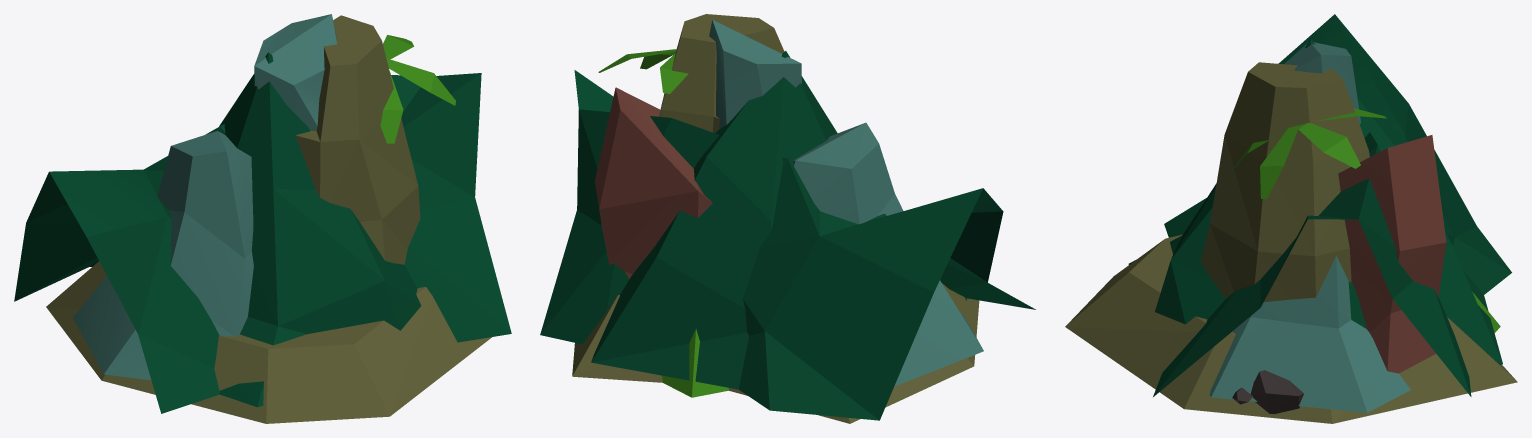
File: All.FBX
The picture shows the model from 3 angles, left to right: view 1: azimuth 30°, elevation 25°; view 2: azimuth 150°, elevation 25°; view 3: azimuth 270°, elevation 25°; orthographic projection. The views are drawn at different scales.
Parts seen in each view (by area): view 1: mtBig_connectA, mtBig_mountainA, seaBig_islandB, coldBig_icebergA, seaBig_islandA; view 2: mtBig_connectA, mtBig_mountainA, coldBig_icebergA, dryBig_rockB, seaBig_islandA, seaBig_islandB, goodBig_lakeA; view 3: seaBig_islandA, seaBig_islandB, mtBig_connectA, coldBig_icebergA, dryBig_rockB, mtBig_mountainA, goodBig_lakeA.
Part boxes in pixels (x1,y1,x2,y2): mtBig_connectA: (14, 73, 511, 413); mtBig_mountainA: (219, 52, 421, 407); seaBig_islandB: (46, 35, 491, 423); coldBig_icebergA: (72, 14, 337, 380); seaBig_islandA: (295, 15, 420, 264); mtBig_connectA: (540, 70, 1035, 420); mtBig_mountainA: (591, 51, 967, 389); coldBig_icebergA: (709, 20, 983, 386); dryBig_rockB: (594, 87, 712, 279); seaBig_islandA: (659, 14, 784, 135); seaBig_islandB: (572, 49, 979, 423); goodBig_lakeA: (662, 329, 728, 397); seaBig_islandA: (1200, 62, 1369, 301); seaBig_islandB: (1065, 108, 1517, 423); mtBig_connectA: (1153, 14, 1511, 396); coldBig_icebergA: (1210, 42, 1410, 412); dryBig_rockB: (1338, 135, 1446, 373); mtBig_mountainA: (1128, 39, 1502, 364); goodBig_lakeA: (1232, 292, 1500, 414).
Bounding box in the file's own units: 630 × 426 × 571.
